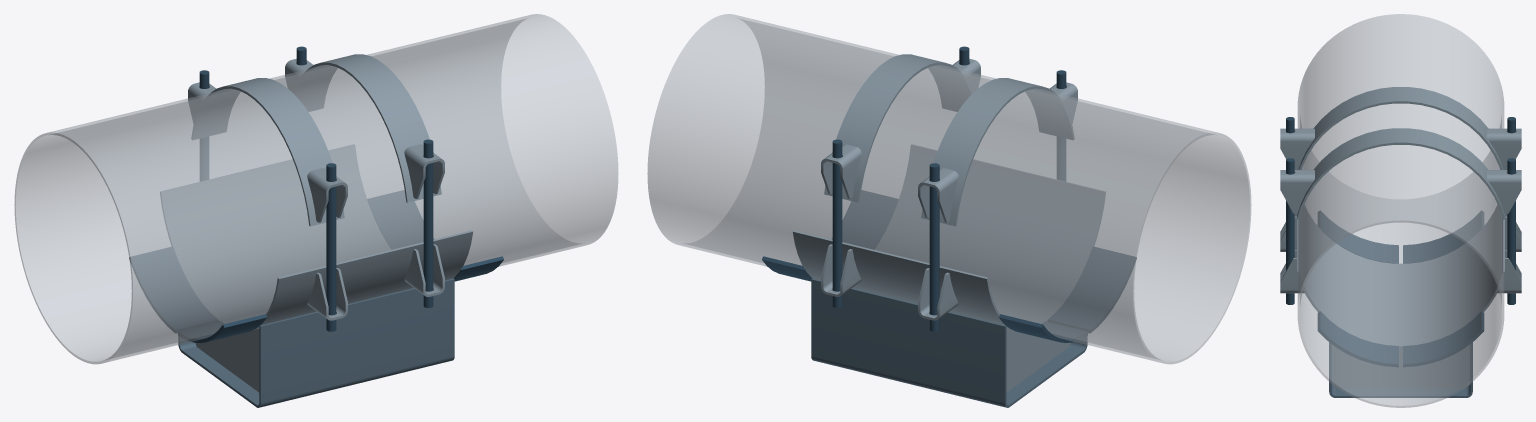
The model's file is TS-671.00.00-14-opora-dn720-H200.glb.
The picture shows the model from 3 angles, left to right: view 1: azimuth 30°, elevation 25°; view 2: azimuth 150°, elevation 25°; view 3: azimuth 270°, elevation 25°; orthographic projection. The views are drawn at different scales.
Parts seen in each view (by area): view 1: truba, podushka_0, skoba_1, bugel_podushka_-1_0, bugel_podushka_1_0, upor_-1_1, upor_1_1, rebro_2, shpilka_1_-1, shpilka_-1_-1, bugel_ushko_1_2, bugel_ushko_-1_2 (+5 smaller); view 2: truba, podushka_0, skoba_1, bugel_podushka_-1_0, bugel_podushka_1_0, upor_-1_-1, upor_1_-1, rebro_2, shpilka_1_1, shpilka_-1_1, bugel_ushko_1_1, bugel_ushko_-1_1 (+5 smaller); view 3: truba, podushka_0, rebro_6, bugel_podushka_1_0, bugel_podushka_-1_0, upor_1_1, upor_1_-1, skoba_1, upor_-1_1, upor_-1_-1, bugel_ushko_1_1, bugel_ushko_1_2 (+8 smaller).
Boxes of the visible parts, left/top/right/bottom form: truba: left=14, top=14, right=618, bottom=364; podushka_0: left=160, top=144, right=472, bottom=329; skoba_1: left=178, top=278, right=454, bottom=407; bugel_podushka_-1_0: left=191, top=78, right=344, bottom=226; bugel_podushka_1_0: left=293, top=54, right=441, bottom=202; upor_-1_1: left=129, top=247, right=217, bottom=332; upor_1_1: left=367, top=190, right=433, bottom=249; rebro_2: left=195, top=328, right=259, bottom=392; shpilka_1_-1: left=423, top=139, right=433, bottom=307; shpilka_-1_-1: left=326, top=163, right=336, bottom=331; bugel_ushko_1_2: left=404, top=144, right=444, bottom=198; bugel_ushko_-1_2: left=307, top=168, right=347, bottom=222; truba: left=647, top=14, right=1251, bottom=364; podushka_0: left=793, top=144, right=1105, bottom=329; skoba_1: left=811, top=278, right=1087, bottom=407; bugel_podushka_-1_0: left=921, top=78, right=1074, bottom=226; bugel_podushka_1_0: left=824, top=54, right=972, bottom=202; upor_-1_-1: left=1048, top=247, right=1136, bottom=332; upor_1_-1: left=832, top=190, right=898, bottom=249; rebro_2: left=1006, top=328, right=1070, bottom=392; shpilka_1_1: left=832, top=139, right=842, bottom=307; shpilka_-1_1: left=929, top=163, right=939, bottom=331; bugel_ushko_1_1: left=821, top=144, right=861, bottom=198; bugel_ushko_-1_1: left=918, top=168, right=958, bottom=222; truba: left=1297, top=14, right=1504, bottom=407; podushka_0: left=1297, top=205, right=1504, bottom=348; rebro_6: left=1331, top=344, right=1470, bottom=388; bugel_podushka_1_0: left=1297, top=128, right=1504, bottom=219; bugel_podushka_-1_0: left=1298, top=87, right=1503, bottom=169; upor_1_1: left=1403, top=311, right=1484, bottom=367; upor_1_-1: left=1317, top=311, right=1398, bottom=367; skoba_1: left=1329, top=342, right=1472, bottom=397; upor_-1_1: left=1403, top=211, right=1483, bottom=263; upor_-1_-1: left=1318, top=211, right=1398, bottom=263; bugel_ushko_1_1: left=1487, top=170, right=1521, bottom=213; bugel_ushko_1_2: left=1280, top=170, right=1314, bottom=213.
Bounding box in the file's own units: 1700 × 929 × 839.
